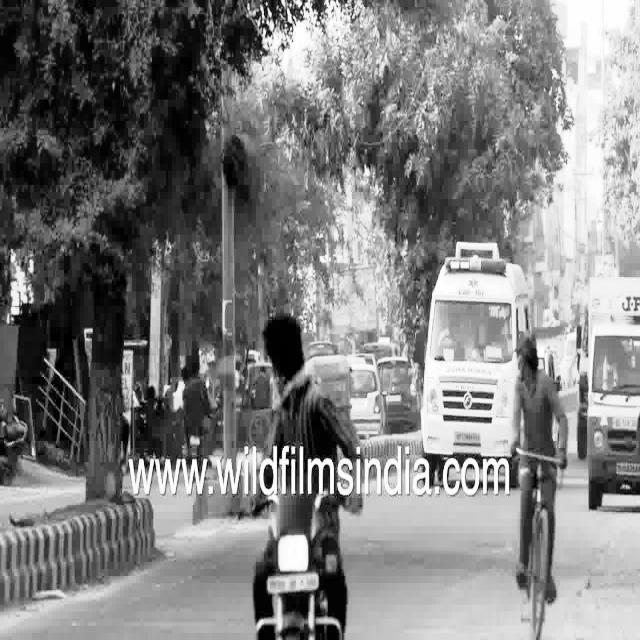Ambulance: (422, 239, 524, 456)
